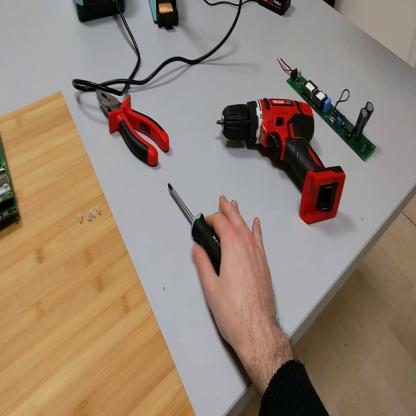electric screwdriver: (215, 100, 348, 229)
electric screwdriver battery: (256, 1, 293, 19)
hand: (192, 194, 280, 357)
high voltage board: (278, 55, 380, 162)
low voltage board: (2, 138, 20, 237)
pliers: (97, 89, 170, 169)
screwdriver-: (168, 181, 221, 277)
welder base: (148, 1, 180, 35)
welder station: (74, 1, 127, 28)
working area: (2, 84, 194, 416)
